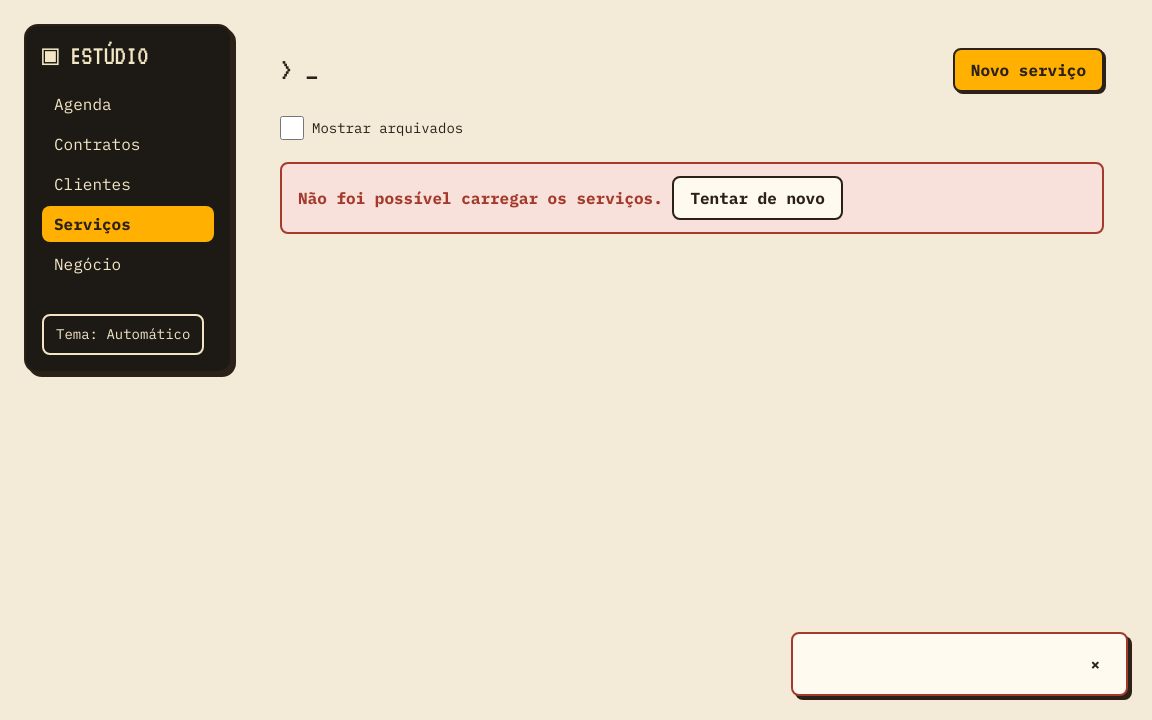
Test: validates before sending
The image size is (1152, 720).
Click the button "Novo serviço" at (1028,70), box [953,48,1104,92]
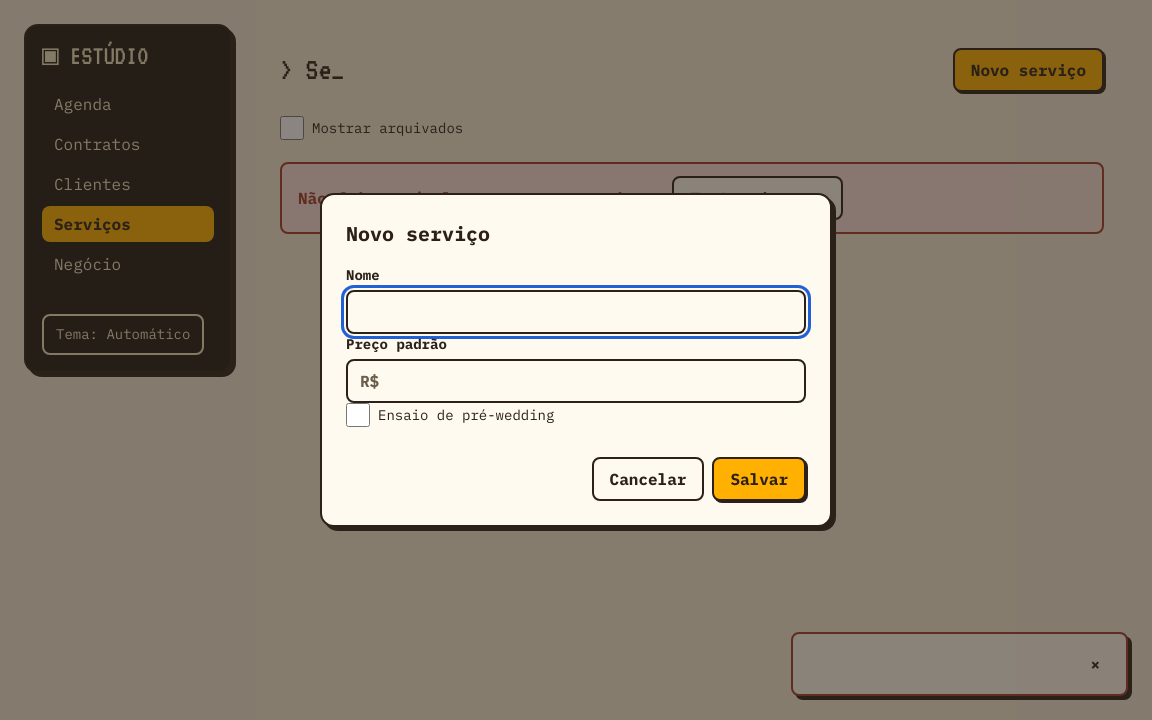
Click the button "Salvar" at (759,479), box [712,457,806,501]
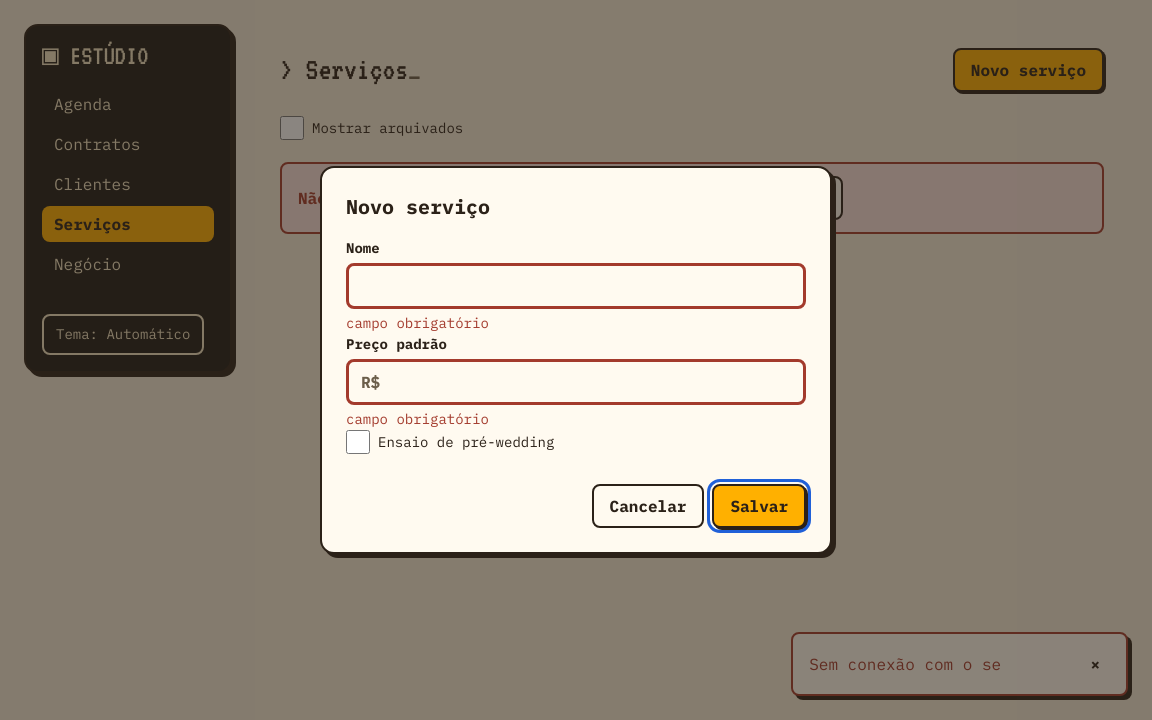
Check: the text "campo obrigatório" is shown 2 times, box [346,314,489,332]; [346,410,489,428]
